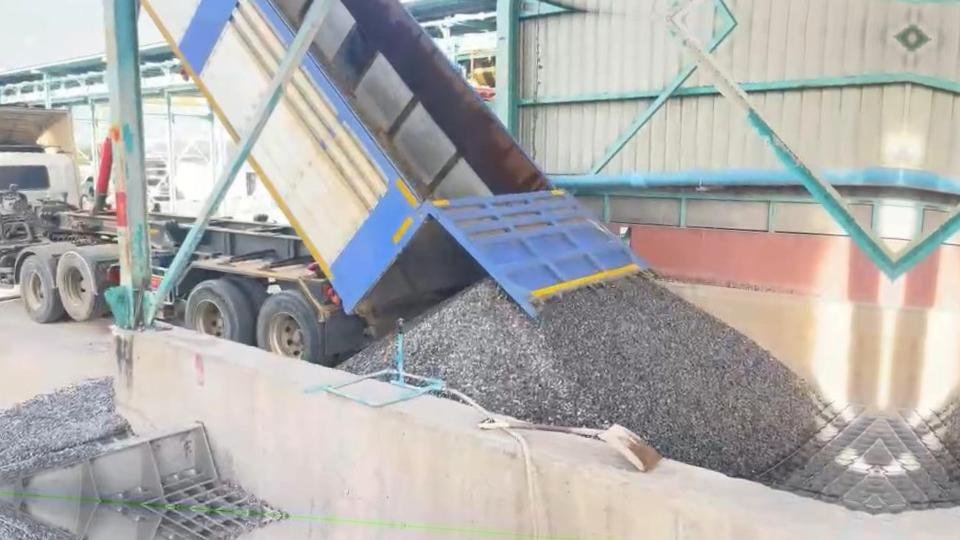gravel: (406, 277, 825, 476), (0, 378, 131, 489), (340, 337, 393, 373)
